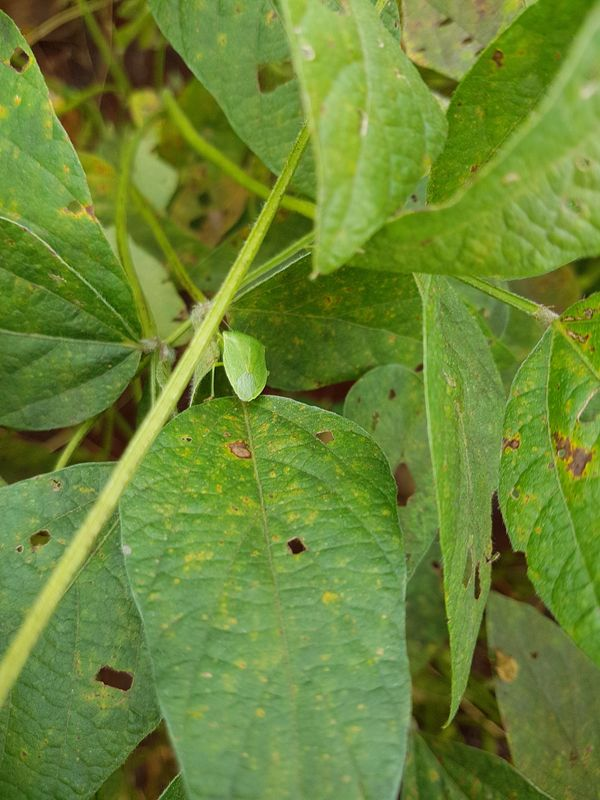Nezara_viridula_adulto: (196, 317, 289, 425)
